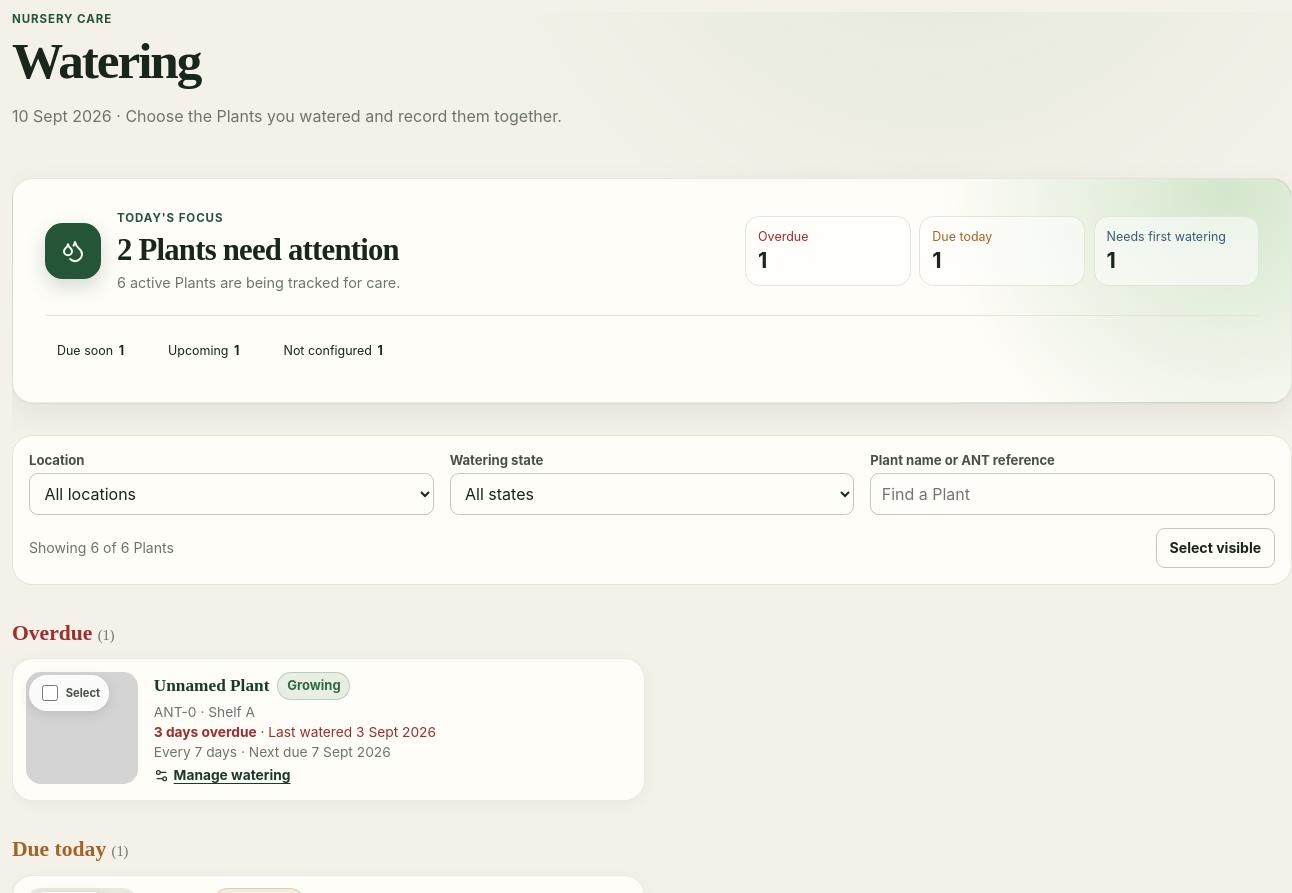
Scenario: searches by reference and clears selection when the search changes
The image size is (1292, 893).
Click the button "Select visible": (1215, 548) [1156, 528, 1275, 568]
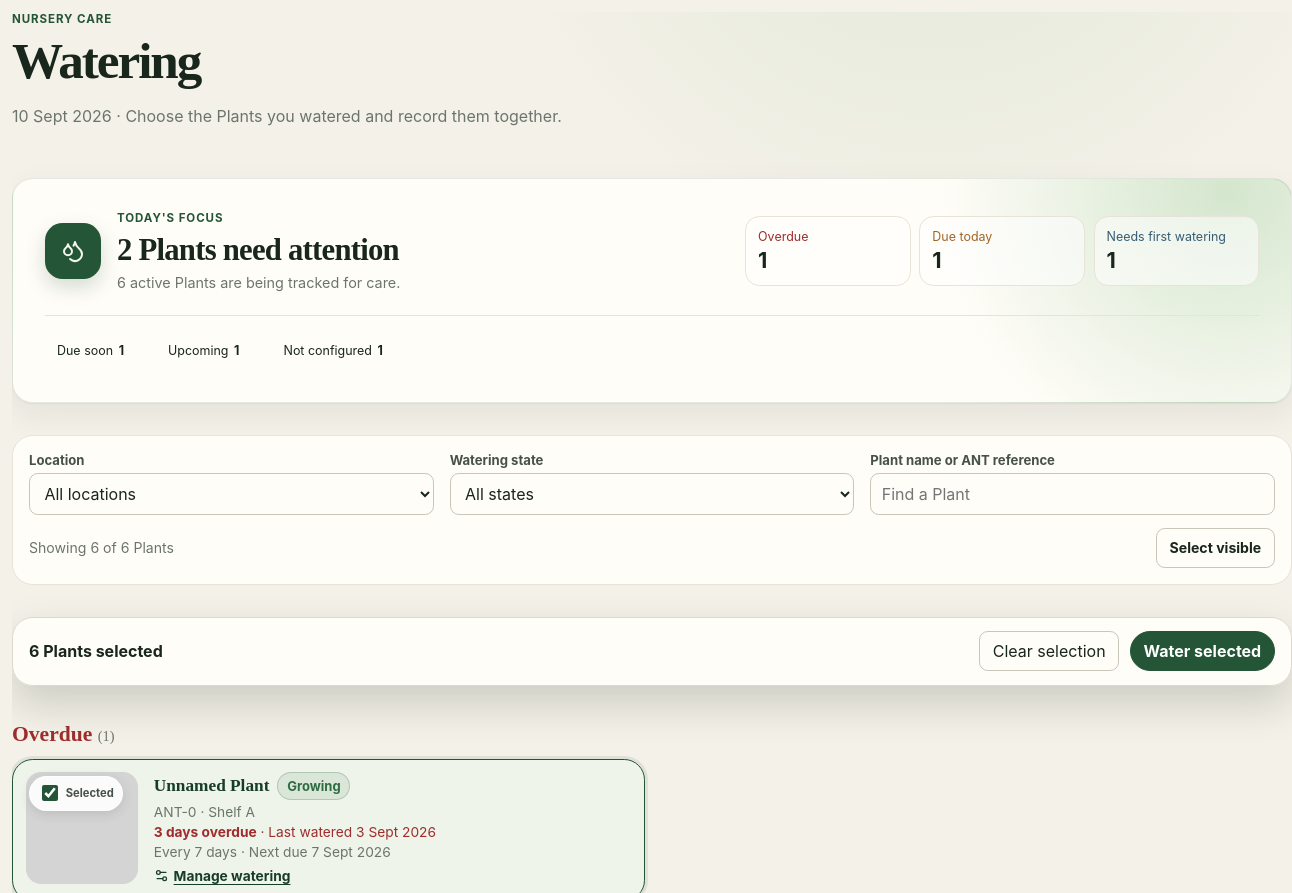
Check: the text "6 Plants selected" is shown, box [29, 641, 163, 661]
In the search field labelled "Plant name or ANT reference": (1073, 494) [870, 473, 1275, 515], type "ANT-5"
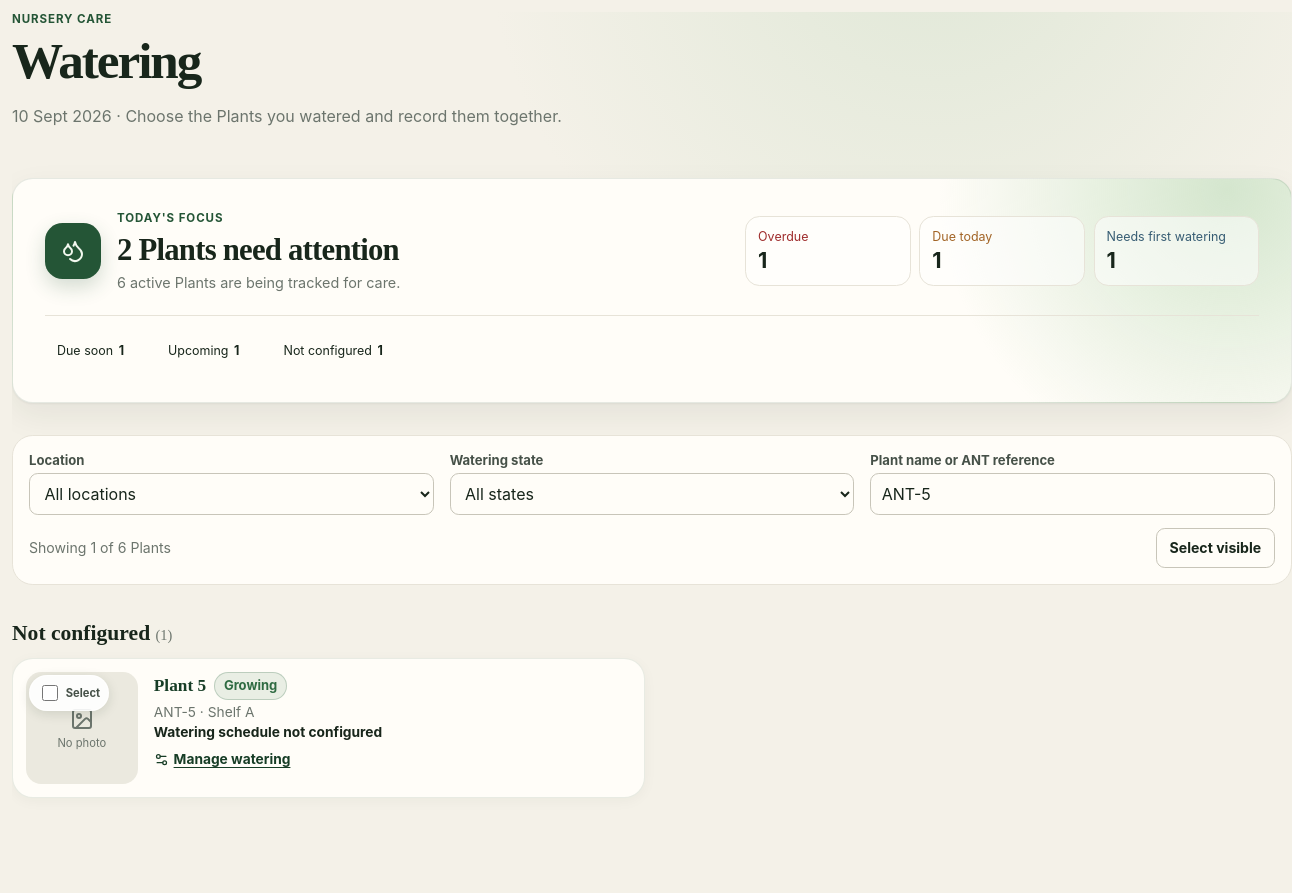
Check: the text "Showing 1 of 6 Plants" is shown, box [29, 539, 171, 556]
Check: the text "6 Plants selected" is gone
Check: the number of checkboxes is 1, box [42, 685, 58, 701]
